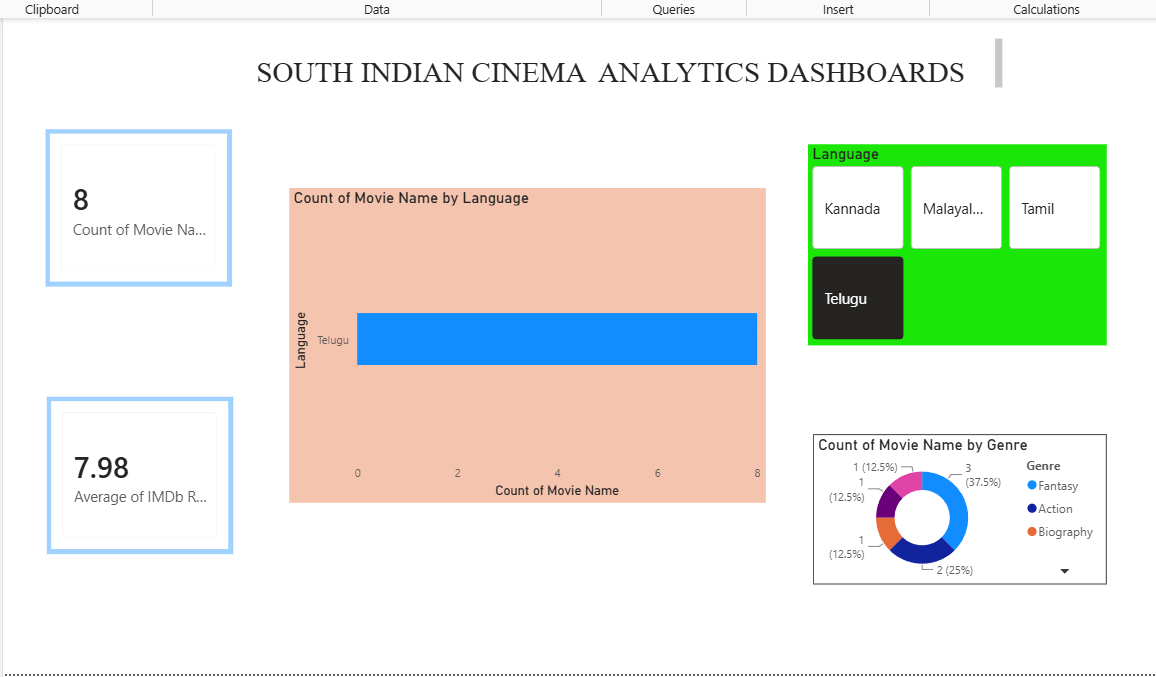

The page's visual inventory and layout, read from the dashboard file:
{"tool":"powerbi","page":{"name":"Page 1","canvas":[1280,720],"ordinal":0},"visuals":[{"type":"textbox","box":[273.1,17.8,828.8,64.5],"z":0},{"type":"cardVisual","fields":{"Data":["Avg(Table 1 (South Indian Movies).IMDb Rating)"]},"box":[48,415.8,204.5,172.9],"z":1000},{"type":"clusteredBarChart","fields":{"Category":["Table 1 (South Indian Movies).Language"],"Y":["CountNonNull(Table 1 (South Indian Movies).Movie Name)"]},"box":[314.2,186.6,522.8,345.8],"z":2000},{"type":"cardVisual","fields":{"Data":["CountNonNull(Table 1 (South Indian Movies).Movie Name)"]},"box":[46.7,122.1,204.5,172.9],"z":3000},{"type":"advancedSlicerVisual","fields":{"Values":["Table 1 (South Indian Movies).Language"]},"box":[883.7,138.6,328,220.9],"z":4000},{"type":"donutChart","fields":{"Category":["Table 1 (South Indian Movies).Genre"],"Y":["CountNonNull(Table 1 (South Indian Movies).Movie Name)"]},"box":[889.2,456.9,322.5,164.7],"z":5000}]}

Visuals, with their boxes on the page's 1280x720 design canvas (x1, y1, x2, y2). These are canvas units, not pixel positions in the 1156x677 screenshot, which may show the page scaled, cropped or inside an application window:
textbox: [273,18,1102,82]
cardVisual - Avg(Table 1 (South Indian Movies).IMDb Rating): [48,416,252,589]
clusteredBarChart - Table 1 (South Indian Movies).Language x CountNonNull(Table 1 (South Indian Movies).Movie Name): [314,187,837,532]
cardVisual - CountNonNull(Table 1 (South Indian Movies).Movie Name): [47,122,251,295]
advancedSlicerVisual - Table 1 (South Indian Movies).Language: [884,139,1212,360]
donutChart - Table 1 (South Indian Movies).Genre x CountNonNull(Table 1 (South Indian Movies).Movie Name): [889,457,1212,622]
